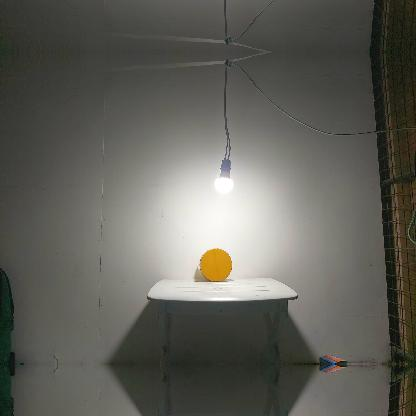Lady-s-Choice: (197, 248, 231, 282)
